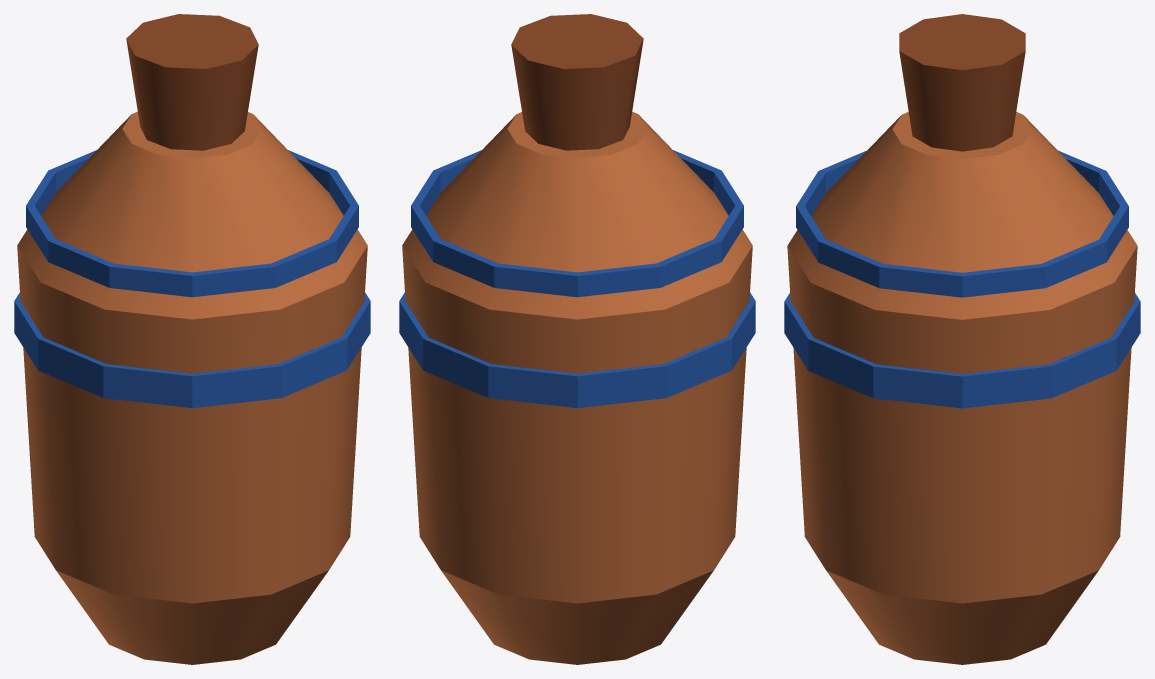
The model's file is dc_vase.glb.
3 views of the same model, side by side, from view 1: azimuth 30°, elevation 25°; view 2: azimuth 150°, elevation 25°; view 3: azimuth 270°, elevation 25° (orthographic).
Parts seen in each view (by area): view 1: dc_vase; view 2: dc_vase; view 3: dc_vase.
Boxes of the visible parts, <box> form: dc_vase: <box>14,14,370,664</box>; dc_vase: <box>399,14,755,664</box>; dc_vase: <box>784,14,1140,664</box>.
Size of the model in its own units: 0.61 by 1.1 by 0.61.
